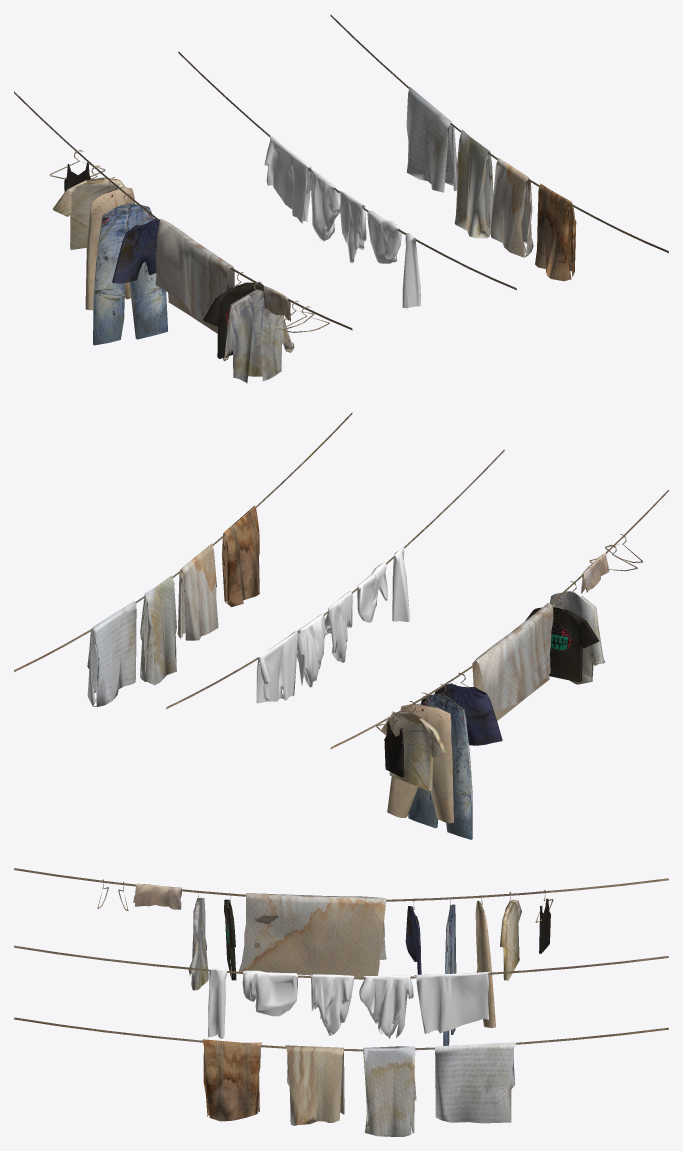
Rendered from clothesline.glb.
The picture shows the model from 3 angles, top to bottom: view 1: azimuth 30°, elevation 25°; view 2: azimuth 150°, elevation 25°; view 3: azimuth 270°, elevation 25°; orthographic projection. The views are drawn at different scales.
Parts seen in each view (by area): view 1: dock; view 2: dock; view 3: dock.
Boxes of the visible parts, <box> form: dock: <box>14,14,668,383</box>; dock: <box>14,412,668,839</box>; dock: <box>14,868,668,1136</box>.
Bounding box in the file's own units: 2.17 × 0.9923 × 3.45.
5 materials, 4 textured.
